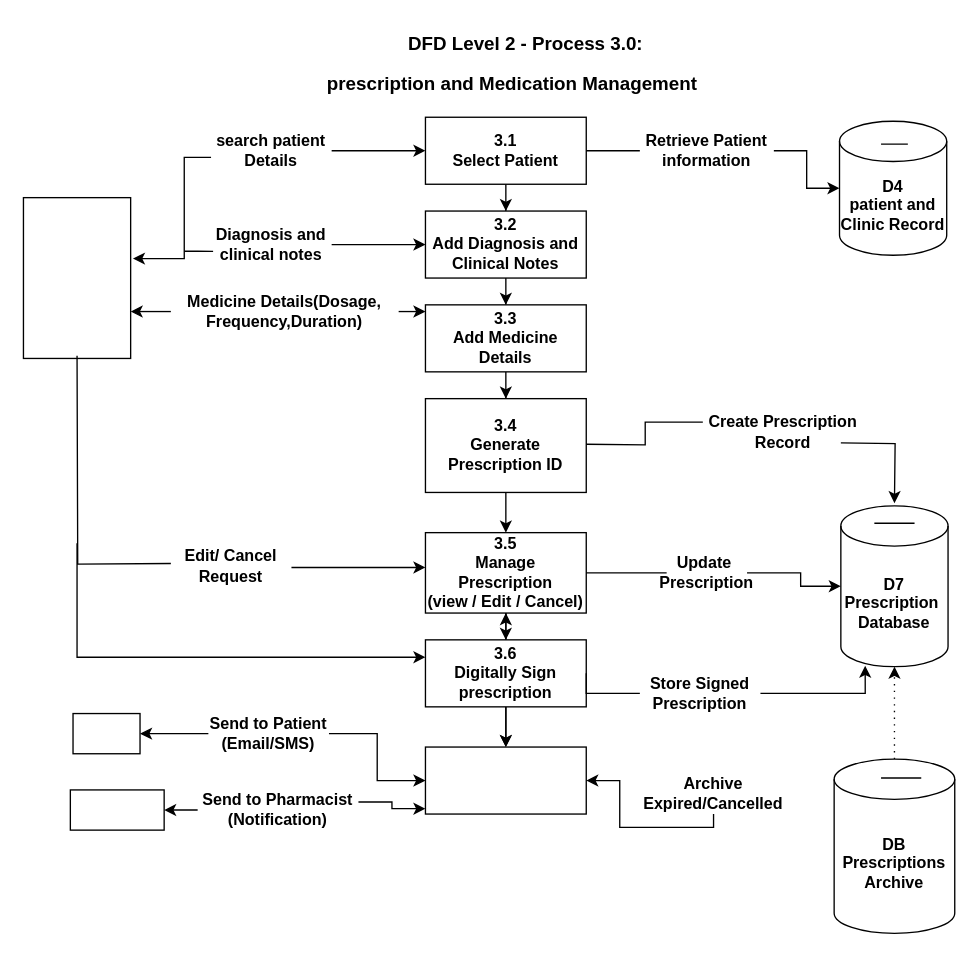
The diagram is 978 pixels wide and 957 high, and some of its shapes have lost their labels. Here are the shapes that lost their labels. From the top down, the centre of each, then its label:
At (76,277): "Doctor".
At (106,733): "Patient".
At (505,780): "3.7 Send prescription Notification".
At (116,809): "Pharmacist".
